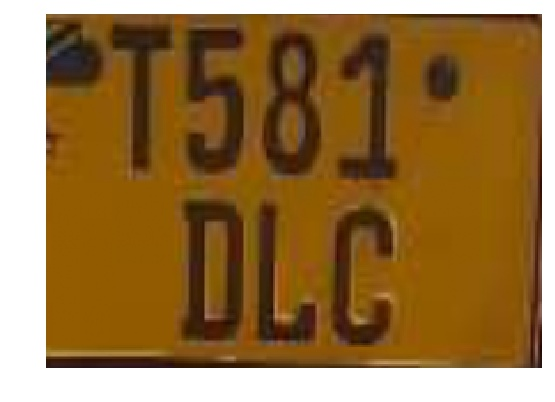T: (103, 18, 181, 182)
